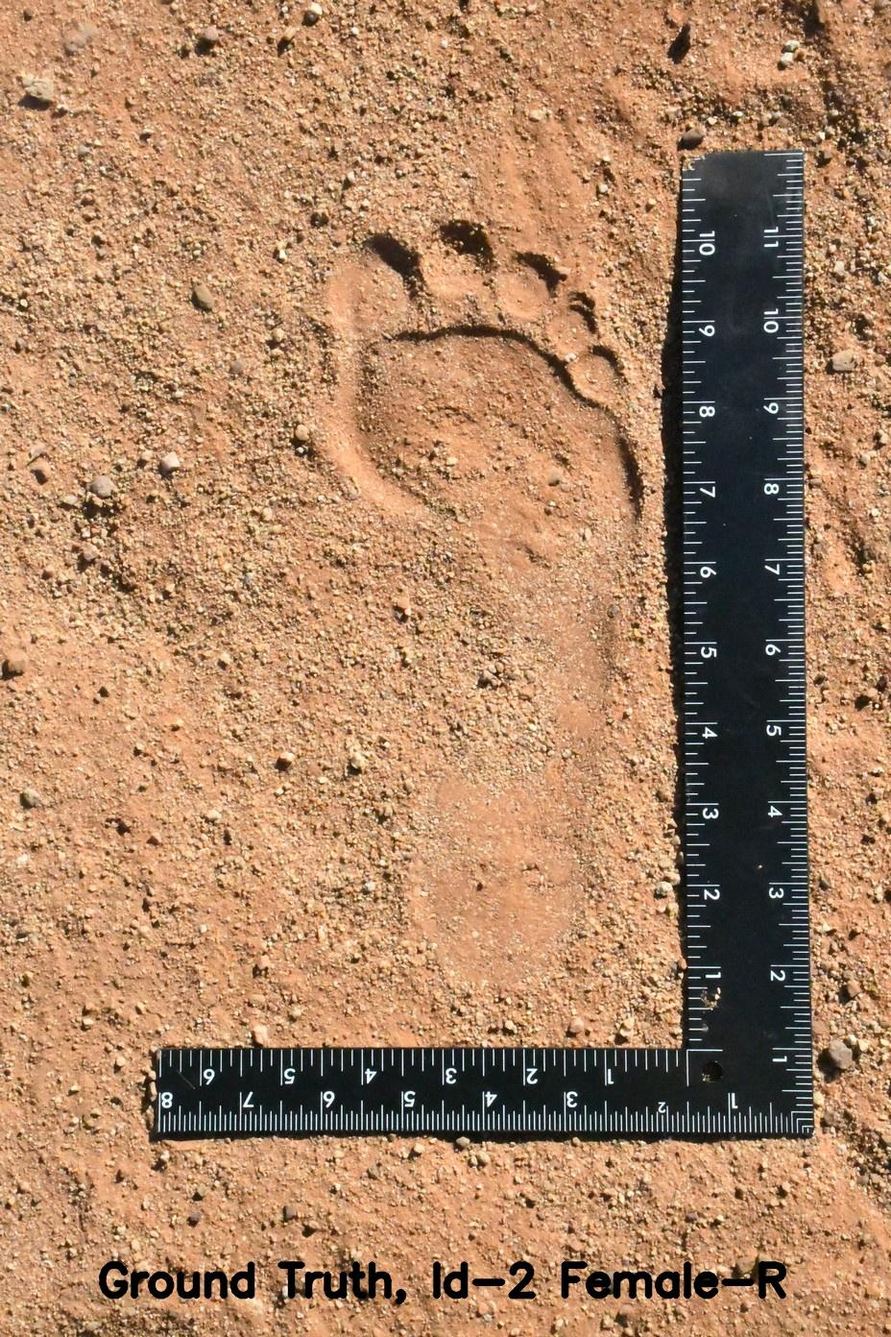human_foot_print: (321, 190, 657, 1018)
